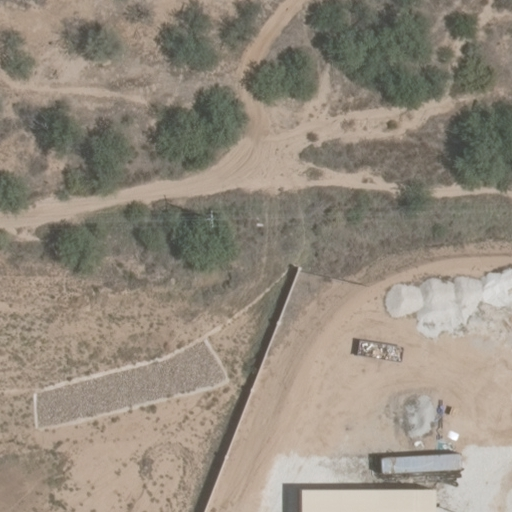DT: (207, 204, 223, 234)
